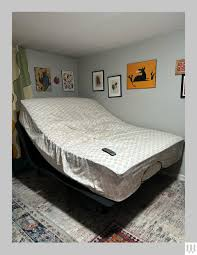bed-matress: (18, 93, 184, 203)
